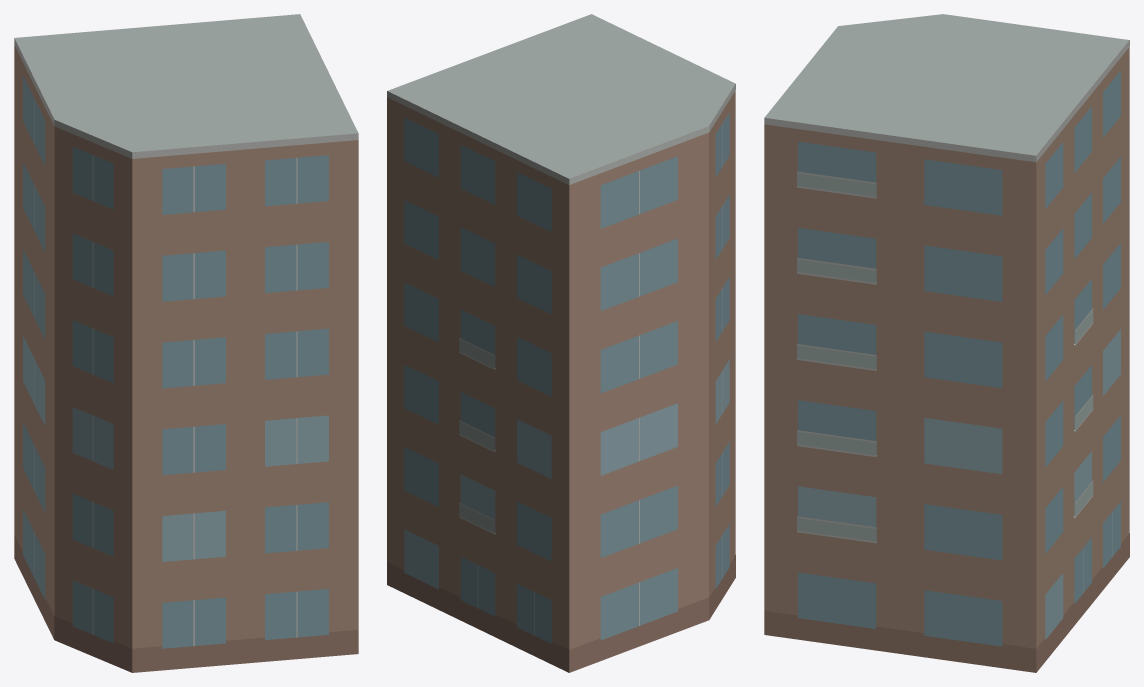
The model's file is survey-upis-33019417.glb.
3 renders of one model, left to right at view 1: azimuth 30°, elevation 25°; view 2: azimuth 150°, elevation 25°; view 3: azimuth 270°, elevation 25°, orthographic. The views are drawn at different scales.
Visible parts, largest first — view 1: survey-upis-33019417.tmp; view 2: survey-upis-33019417.tmp; view 3: survey-upis-33019417.tmp.
Part boxes in pixels (x1,y1,x2,y2): survey-upis-33019417.tmp: (14, 14, 358, 672); survey-upis-33019417.tmp: (387, 14, 735, 672); survey-upis-33019417.tmp: (764, 14, 1129, 672).
Bounding box in the file's own units: 11.3 × 19.2 × 12.31.
